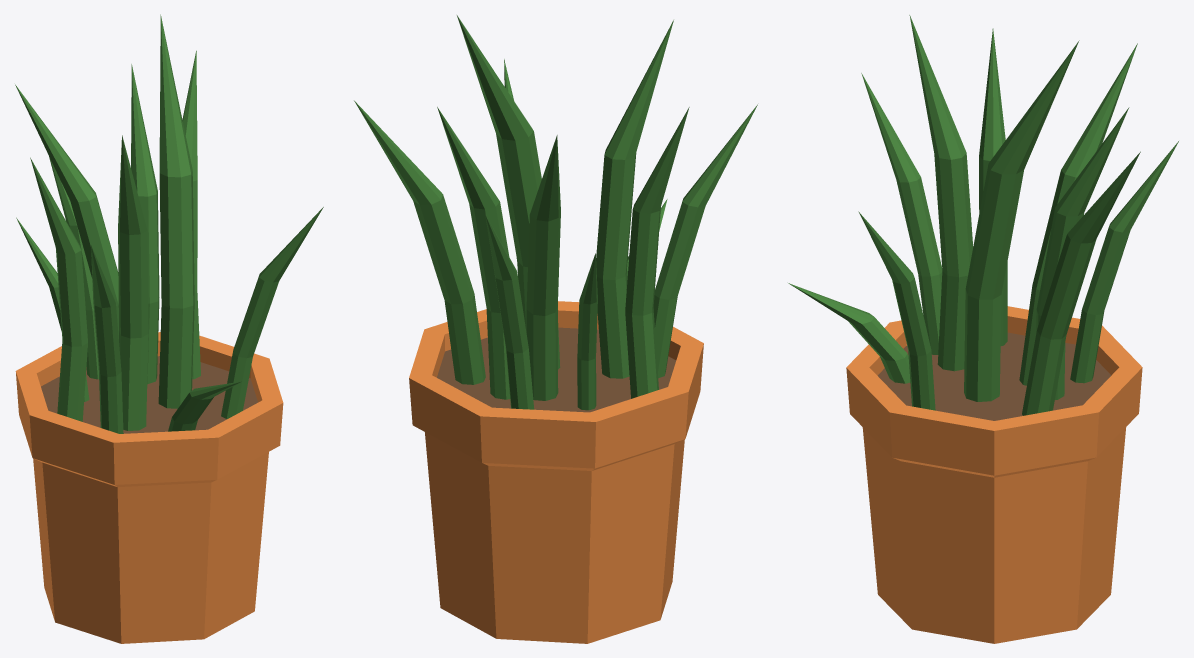
File: Flower_9.fbx
3 views of the same model, side by side, from view 1: azimuth 30°, elevation 25°; view 2: azimuth 150°, elevation 25°; view 3: azimuth 270°, elevation 25° (orthographic). The views are drawn at different scales.
Visible parts, largest first — view 1: Flower_9; view 2: Flower_9; view 3: Flower_9.
Boxes of the visible parts, bbox=[...] form: Flower_9: bbox=[15, 14, 323, 643]; Flower_9: bbox=[354, 15, 757, 643]; Flower_9: bbox=[788, 15, 1178, 643].
Bounding box in the file's own units: 17.91 × 23.65 × 38.63.
